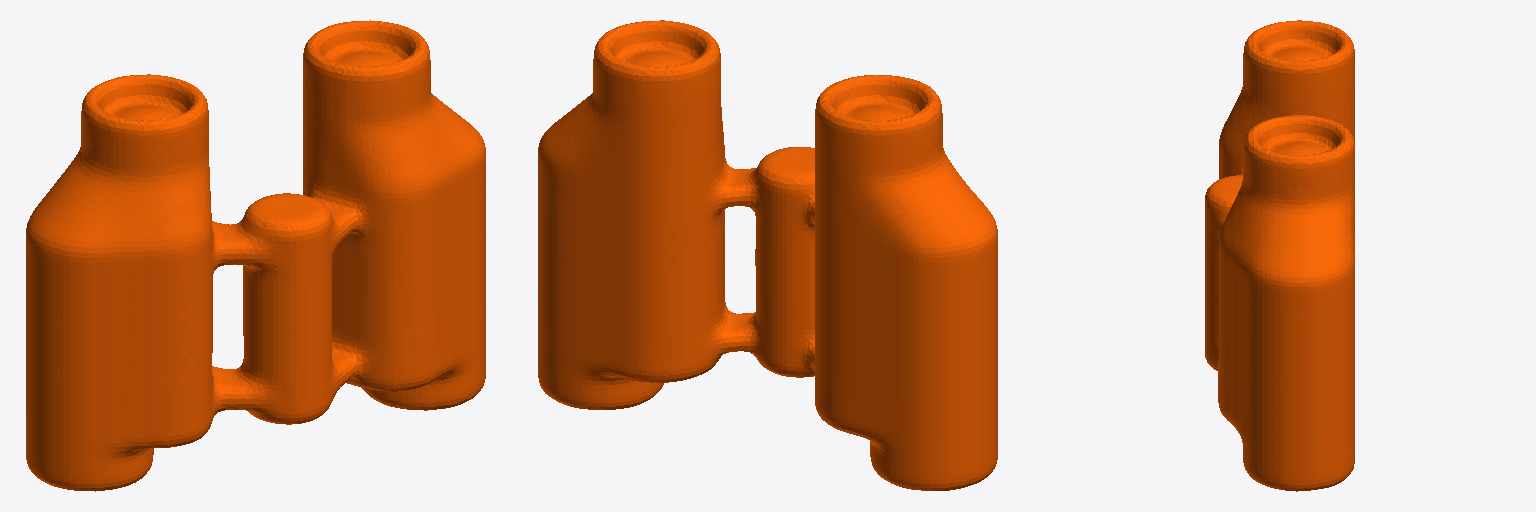
The robot description file, URDF, robot "binoculars":
<?xml version="1.0" ?>
<robot name="binoculars">
   <material name="obj_color">
      <color rgba="1.0 0.423529411765 0.0392156862745 1.0"/>
   </material>
   <link name="top">
      <inertial>
         <origin rpy="0.0005829861247657538 0.001357909010472991 0.00176972212102658" xyz="1.291020416683935e-05 0.002970951276620617 -0.003943792585217563"/>
         <mass value="0.696731129026813"/>
         <inertia ixx="0.0005829867869964549" ixy="-1.150767260459447e-07" ixz="7.115595941924087e-07" iyy="0.001769377286994586" iyz="-1.191142773845972e-05" izz="0.001358253182274283"/>
      </inertial>
      <visual>
         <origin rpy="0 0 0" xyz="0 0 0"/>
         <geometry>
            <mesh filename="top_watertight_tiny.stl" scale="1 1 1"/>
         </geometry>
         <material name="obj_color"/>
      </visual>
      <collision>
         <origin rpy="0 0 0" xyz="0 0 0"/>
         <geometry>
            <mesh filename="top_watertight_tiny.obj" scale="1 1 1"/>
         </geometry>
      </collision>
   </link>
   <link name="bottom">
      <inertial>
         <origin rpy="1.633333333194242e-08 1.633333333194243e-08 1.633333333357667e-08" xyz="0.3464080000000008 0.3464080000000008 0.3464080000000008"/>
         <mass value="0.0009800000000000017"/>
         <inertia ixx="1.633333333248717e-08" ixy="5.447480642029219e-19" ixz="5.447480642029219e-19" iyy="1.633333333248717e-08" iyz="5.447480642029219e-19" izz="1.633333333248717e-08"/>
      </inertial>
      <visual>
         <origin rpy="0 0 0" xyz="0 0 0"/>
         <geometry>
            <mesh filename="bottom_watertight_tiny.stl" scale="1 1 1"/>
         </geometry>
         <material name="obj_color"/>
      </visual>
   </link>
   <joint name="rotation" type="revolute">
      <origin xyz="0 0 0"/>
      <axis xyz="0 0 -1"/>
      <parent link="bottom"/>
      <child link="top"/>
      <dynamics damping="1.0" friction="1.0"/>
      <limit effort="0.1" velocity="0.1" lower="0" upper="0.001"/>
   </joint>
</robot>

--- Facts derived from the render (not from the file) ---
3 views of the same robot in one strip: view 1: azimuth 30°, elevation 25°; view 2: azimuth 150°, elevation 25°; view 3: azimuth 270°, elevation 25° (orthographic).
Model binoculars with 2 links and 1 joints (1 revolute), rooted at bottom, posed all joints at 0.
Visible links, largest first — view 1: top; view 2: top; view 3: top.
Boxes of the visible links, left/top/right/bottom form: top: left=26, top=20, right=485, bottom=491; top: left=538, top=20, right=997, bottom=490; top: left=1205, top=20, right=1354, bottom=491.
Bounding box of the posed robot: 0.1416 × 0.0477 × 0.109 m (x, y, z).
1 mesh visuals loaded from 2 distinct referenced files (1 binary STL); not drawn: 1 (reference not matched to a file when rendering).
